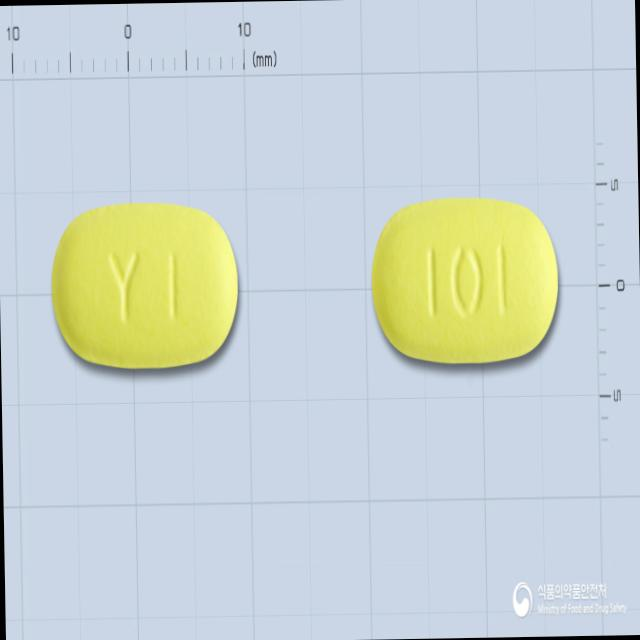Youngil Clarithromycin Tab: (49, 200, 240, 370), (370, 198, 561, 364)
